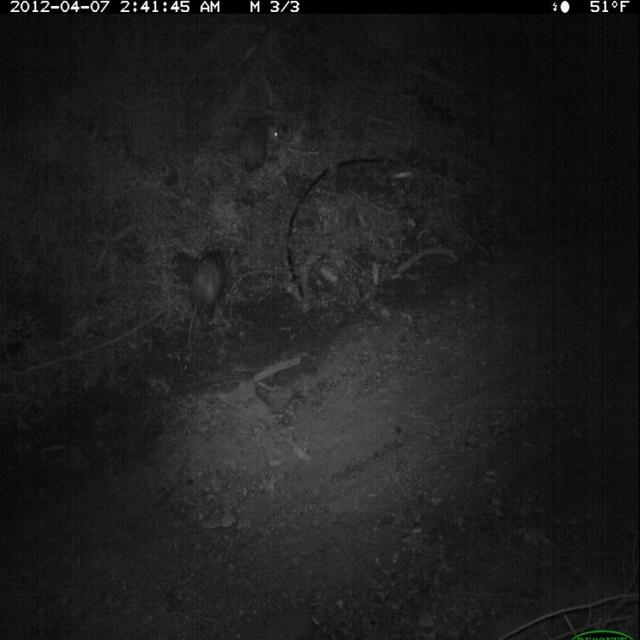opossum: (173, 237, 242, 356), (221, 104, 294, 194)
